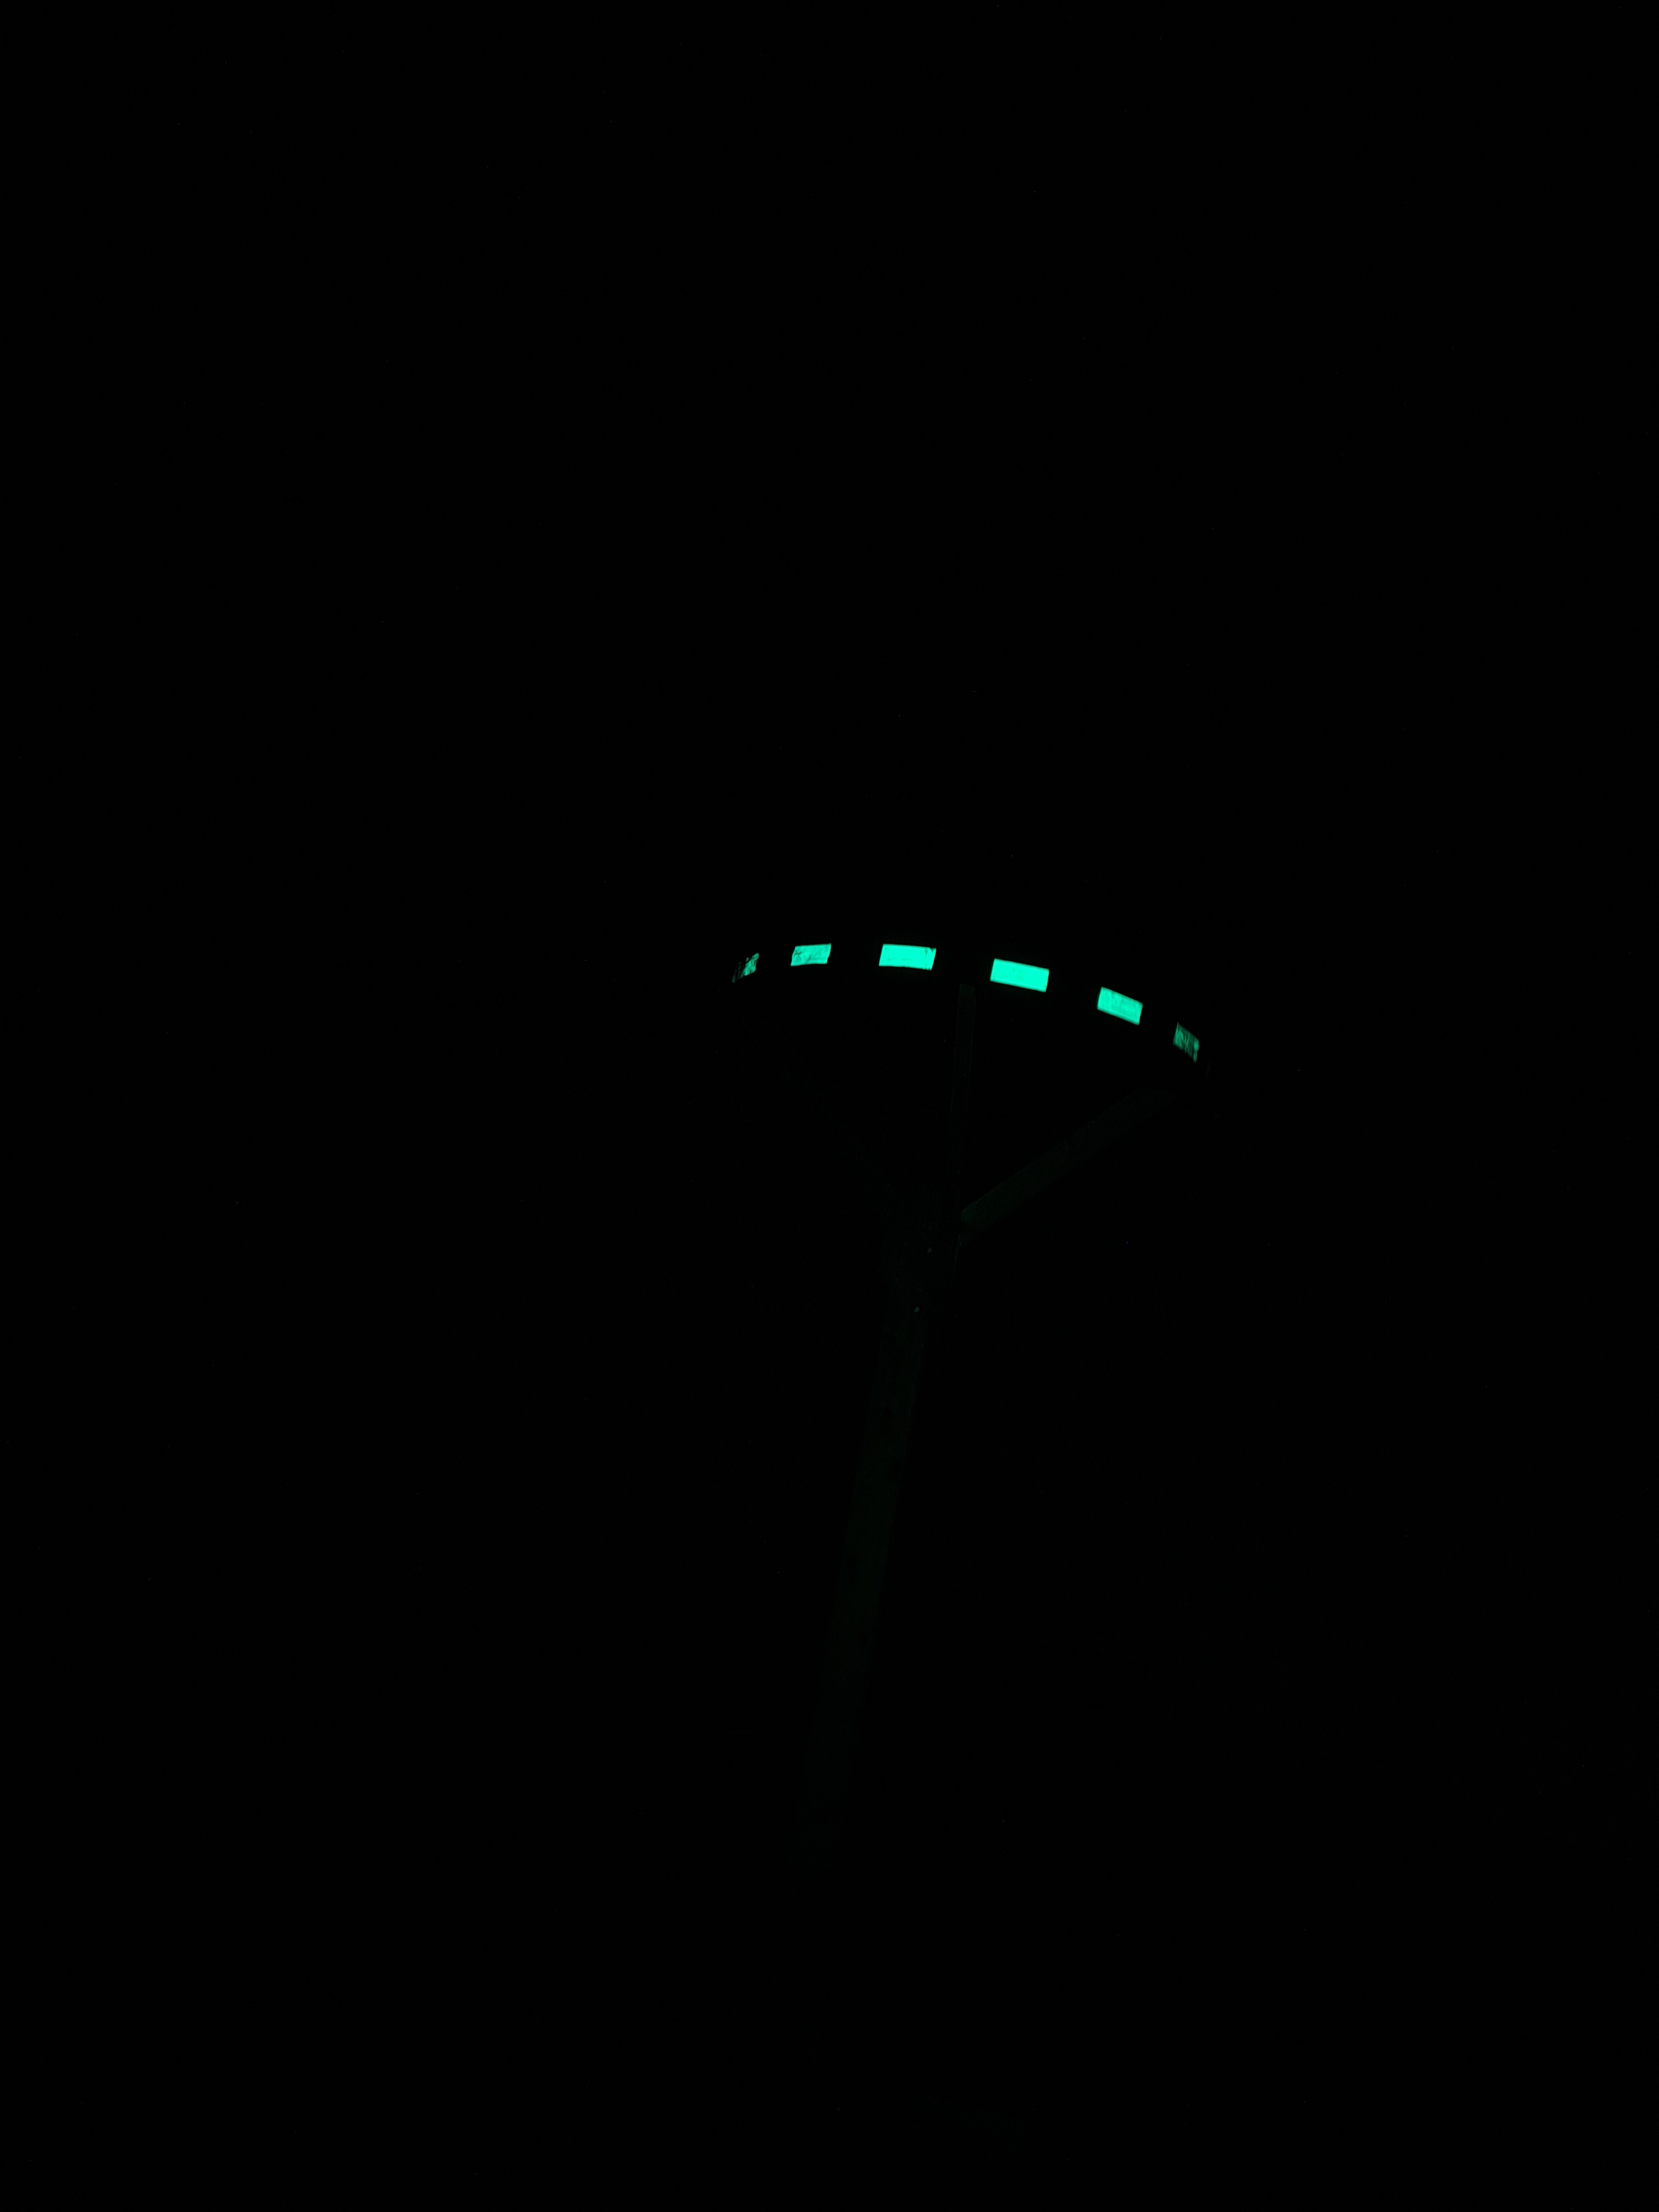hoop: (735, 914, 1208, 1075)
